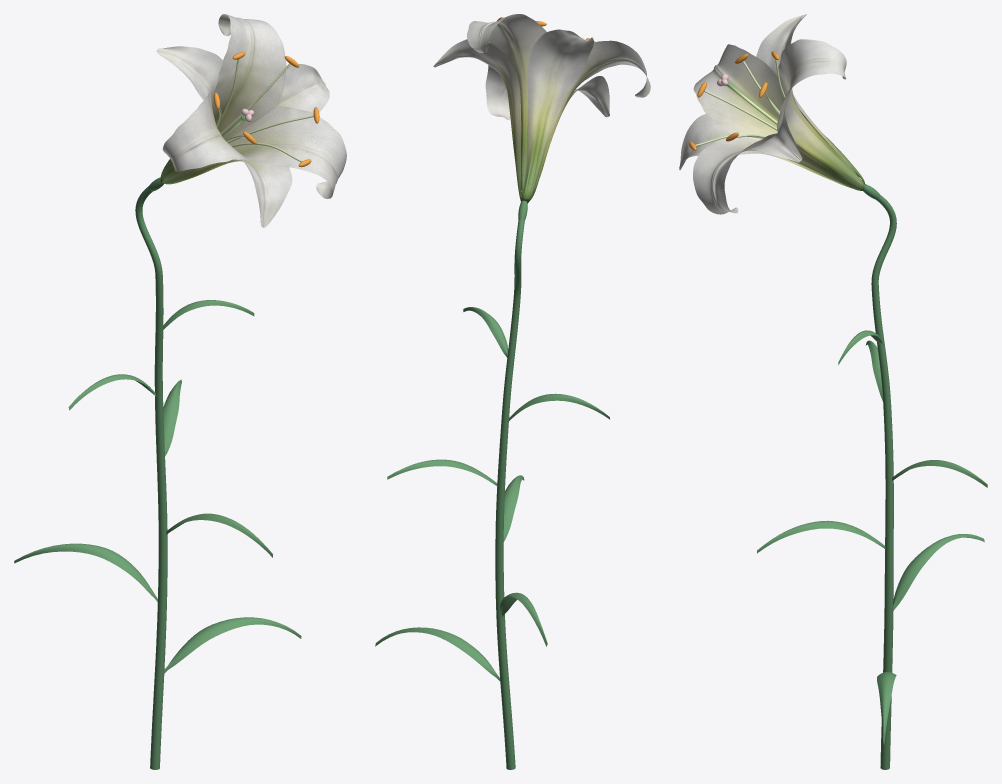
Rendered from lys.glb.
3 renders of one model, left to right at view 1: azimuth 30°, elevation 25°; view 2: azimuth 150°, elevation 25°; view 3: azimuth 270°, elevation 25°, orthographic. The views are drawn at different scales.
Visible parts, largest first — view 1: Petal 3, Petal 2, Tige, Petal 1, Petal small 1, Petal small 3, Petal small 2, Feuille_1, Feuille_2, Feuille_4, Feuille_3; view 2: Petal small 3, Tige, Petal 3, Petal small 2, Petal 1, Feuille_1, Petal 2, Petal small 1, Feuille_4, Feuille_3, Feuille_5, Feuille_2 (+1 smaller); view 3: Petal 1, Tige, Petal small 2, Petal 3, Petal 2, Petal small 3, Petal small 1, Feuille_2, Feuille_3, Feuille_1, Feuille_4.
Boxes of the visible parts, x1,y1,x2,y2 form: Petal 3: (212, 14, 286, 139); Petal 2: (228, 106, 346, 198); Tige: (135, 186, 167, 769); Petal 1: (162, 92, 251, 181); Petal small 1: (161, 159, 292, 227); Petal small 3: (156, 46, 222, 181); Petal small 2: (274, 64, 329, 112); Feuille_1: (164, 617, 301, 673); Feuille_2: (14, 543, 157, 601); Feuille_4: (163, 379, 181, 456); Feuille_3: (166, 513, 272, 557); Petal small 3: (521, 29, 593, 202); Tige: (495, 219, 524, 769); Petal 3: (467, 14, 546, 190); Petal small 2: (433, 39, 521, 201); Petal 1: (533, 40, 650, 192); Feuille_1: (375, 627, 500, 681); Petal 2: (485, 65, 510, 119); Petal small 1: (527, 76, 609, 203); Feuille_4: (387, 459, 497, 486); Feuille_3: (503, 475, 524, 541); Feuille_5: (508, 393, 609, 421); Feuille_2: (500, 592, 547, 646); Petal 1: (693, 44, 859, 177); Tige: (871, 195, 896, 769); Petal small 2: (748, 103, 864, 190); Petal 3: (777, 39, 857, 176); Petal 2: (693, 133, 855, 214); Petal small 3: (756, 14, 865, 185); Petal small 1: (679, 114, 851, 188); Feuille_2: (893, 534, 984, 610); Feuille_3: (757, 520, 885, 553); Feuille_1: (877, 672, 896, 744); Feuille_4: (892, 460, 987, 487).
Bounding box in the file's own units: 0.2822 × 0.8579 × 0.3216.
Materials: 8 (3 with a texture image).
